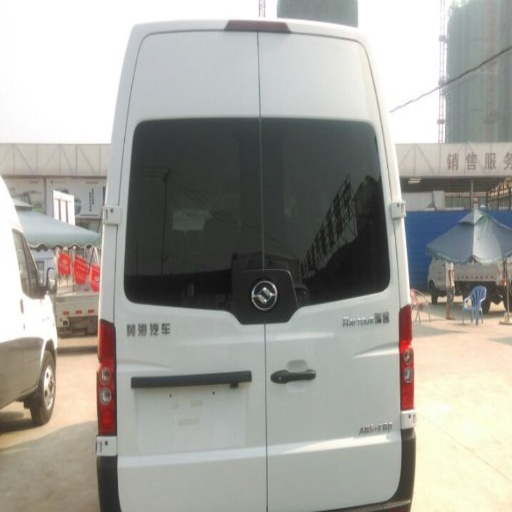back_left_door: (97, 323, 115, 440)
back_left_light: (164, 311, 264, 450)
back_right_door: (400, 307, 414, 426)
front_left_light: (261, 295, 324, 444)
tailgate: (266, 123, 400, 486), (169, 80, 266, 193), (120, 307, 227, 385), (223, 453, 253, 492)
trunk: (98, 457, 118, 511)
